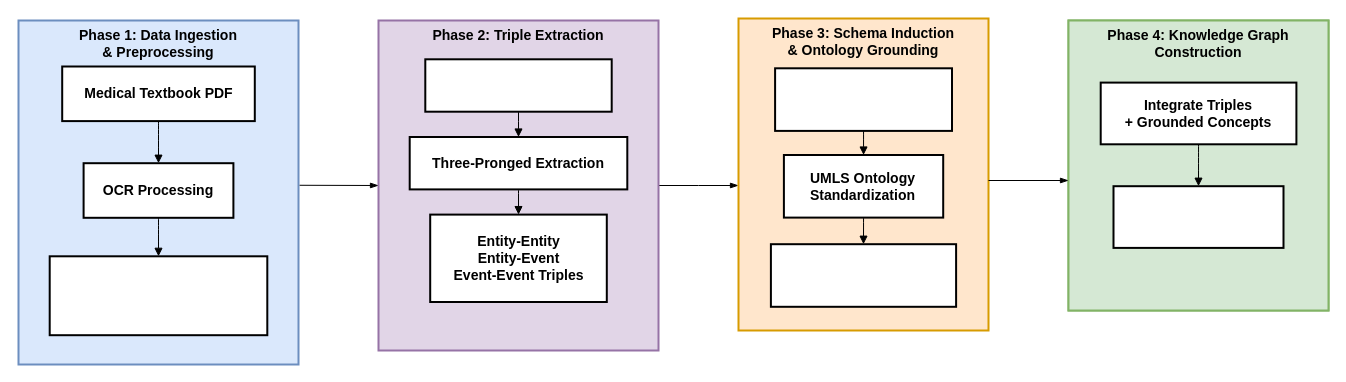
The diagram is 1346 pixels wide and 382 high, and some of its shapes have lost their labels. The centre of each missing label's shape, as x and y in pixels:
"Concept Induction via LLM" goes at [863,99].
"Final Medical Knowledge Graph" goes at [1198,216].
"Grounded Concepts with Standard IDs" goes at [863,275].
"LLM Processing" goes at [518,85].
"Structured Text Segments with Context" goes at [158,295].
